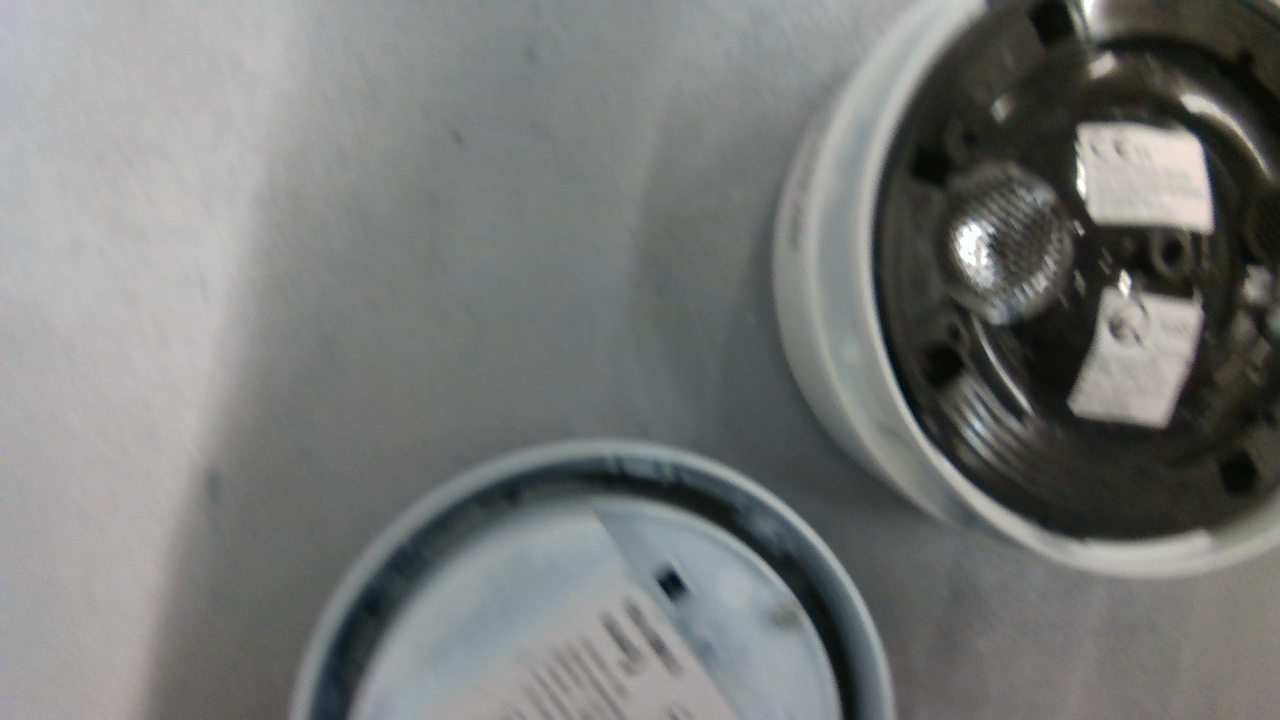HexScrew: (774, 601, 799, 631)
